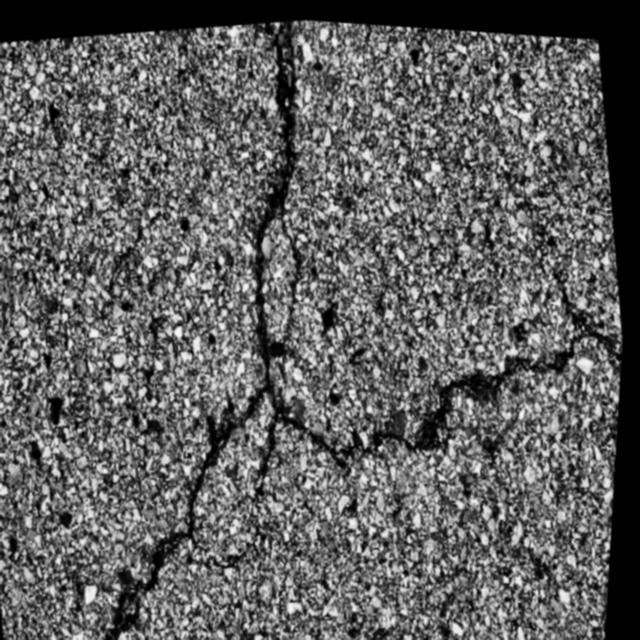Clogged Drains: (192, 17, 308, 534), (270, 295, 626, 459), (114, 537, 184, 640)
